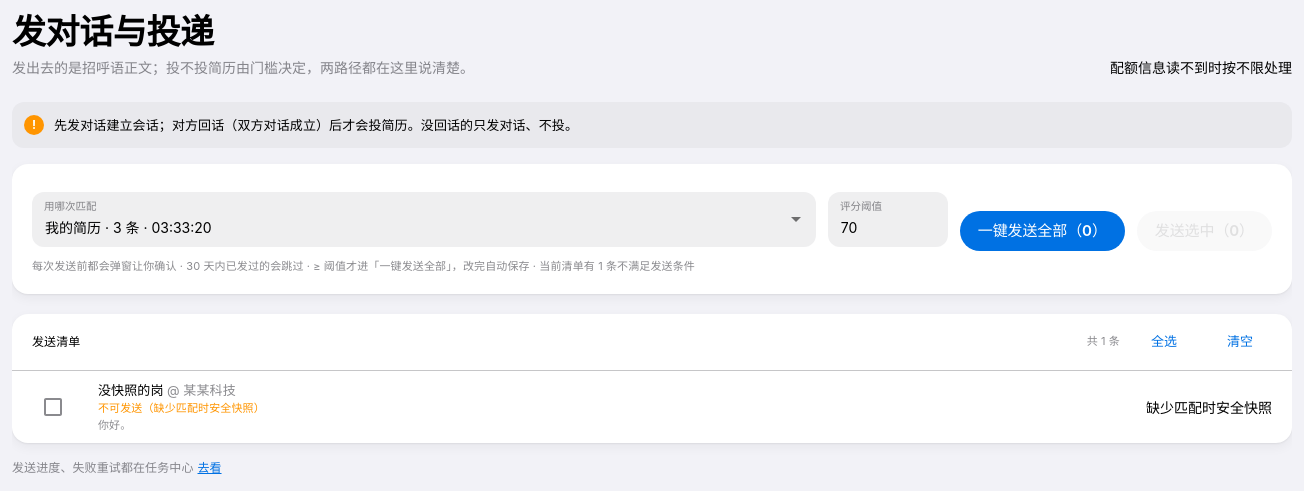
Test case: DeliverPage 清单与门槛 › 缺安全快照的行标出来，不进可发送候选
The width and height of the screenshot is (1304, 491).
Expected: the text "没快照的岗" is shown, [98,382,164,398]
# 点了要说清为什么没有，而不是静默无反应
Click the button "一键发送全部（0）" at (1042,231), box [960,211,1125,251]
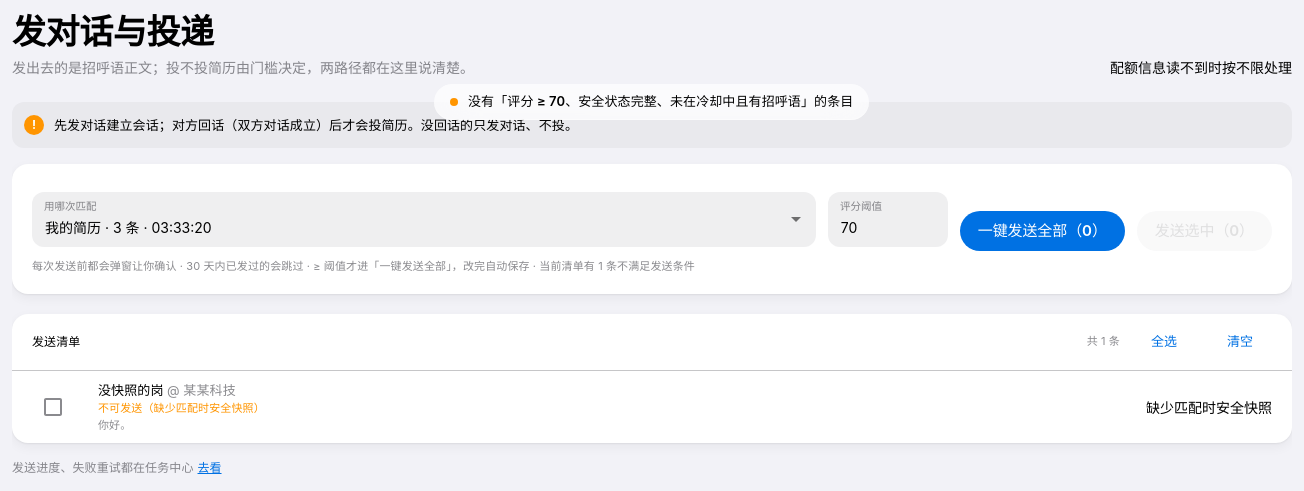
Result: the text "没有「评分 ≥ 70、安全状态完整、未在冷却中且有招呼语」的条目" is shown at [468,92,854,112]
